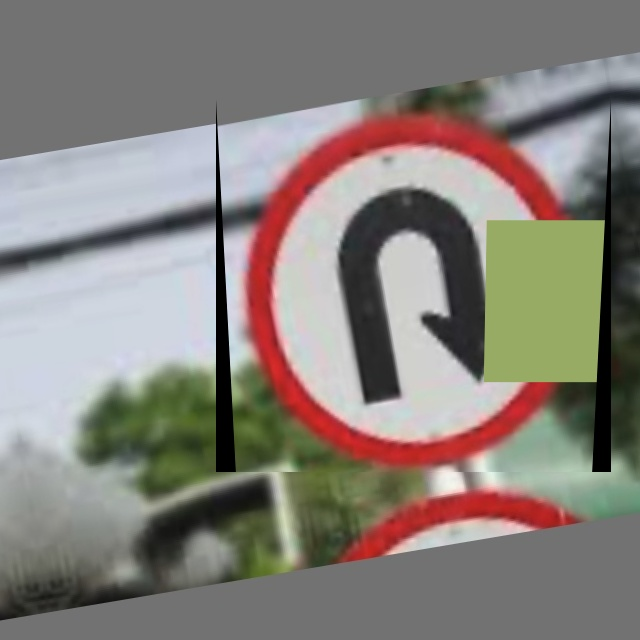U_Turn_Ahead: (216, 99, 611, 472)
